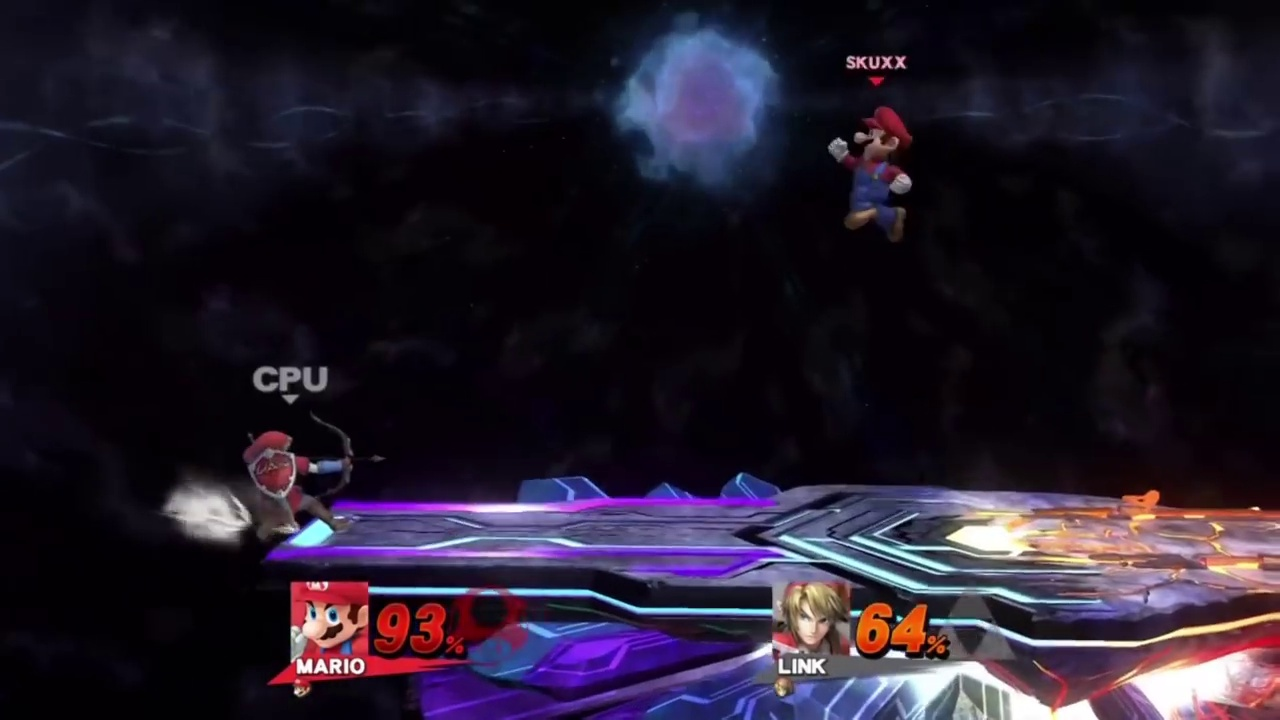Mario: (824, 103, 918, 245)
